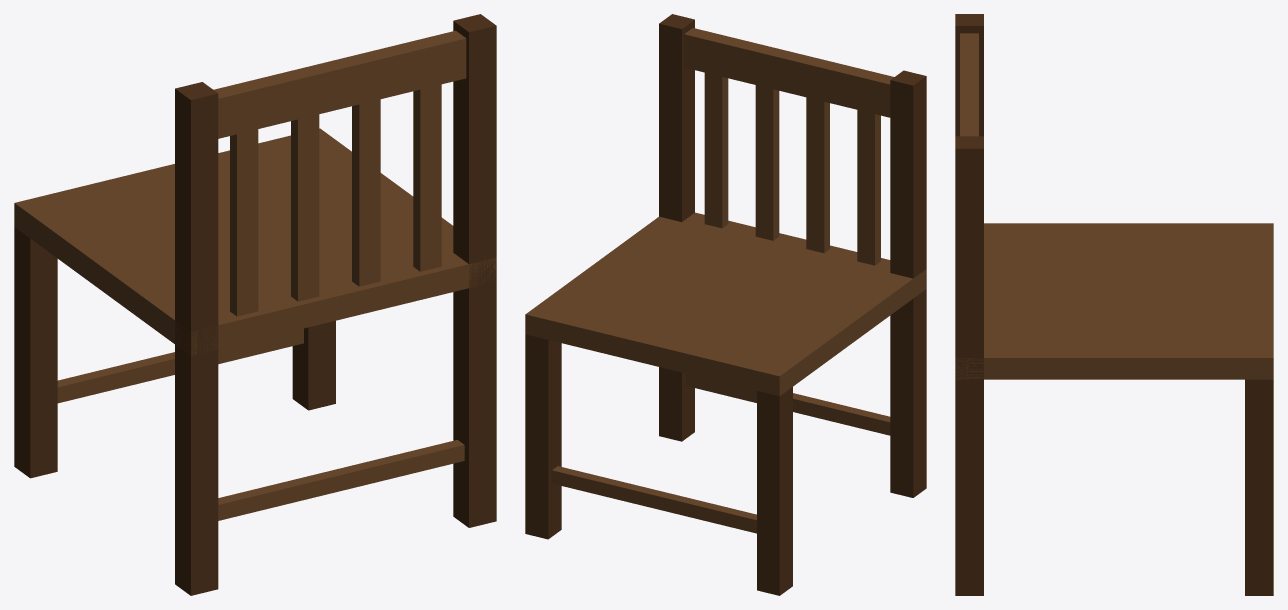
The model's file is chair.glb.
3 views of the same model, side by side, from view 1: azimuth 30°, elevation 25°; view 2: azimuth 150°, elevation 25°; view 3: azimuth 270°, elevation 25° (orthographic). The views are drawn at different scales.
Parts seen in each view (by area): view 1: chair; view 2: chair; view 3: chair.
Part boxes in pixels (bbox=[...]): chair: bbox=[14, 14, 496, 595]; chair: bbox=[525, 14, 926, 595]; chair: bbox=[955, 14, 1273, 595].
Size of the model in its own units: 0.4 by 0.62 by 0.4.
